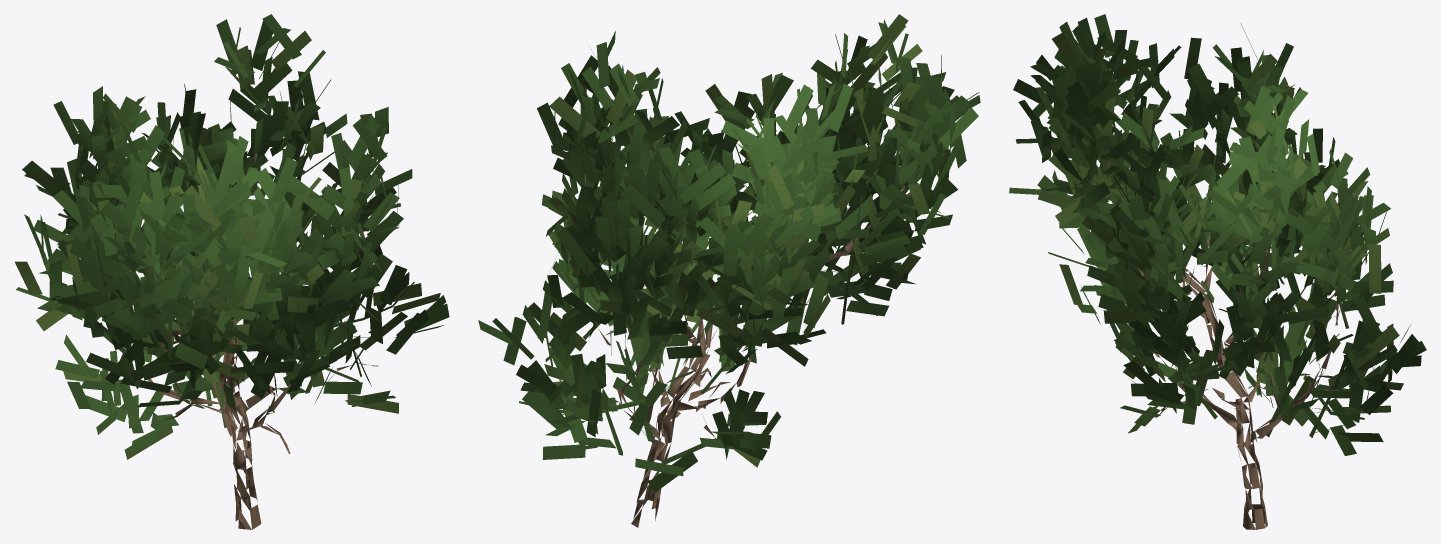
The model's file is arvore_5.glb.
3 renders of one model, left to right at view 1: azimuth 30°, elevation 25°; view 2: azimuth 150°, elevation 25°; view 3: azimuth 270°, elevation 25°, orthographic. The views are drawn at different scales.
Parts seen in each view (by area): view 1: arvore_5; view 2: arvore_5; view 3: arvore_5.
Boxes of the visible parts, <box> form: arvore_5: <box>15,14,449,529</box>; arvore_5: <box>478,14,980,527</box>; arvore_5: <box>1009,14,1426,529</box>.
Size of the model in its own units: 1.41 by 1.67 by 1.39.
